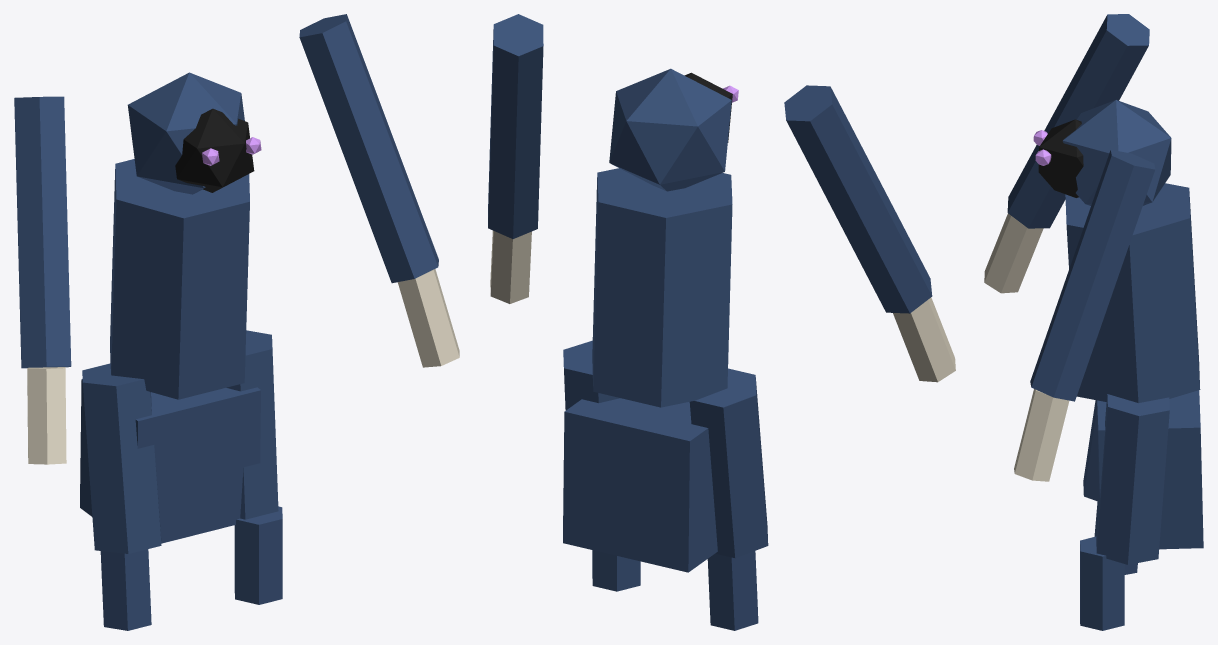
File: npcpose_wraith_idle_03.glb
3 views of the same model, side by side, from view 1: azimuth 30°, elevation 25°; view 2: azimuth 150°, elevation 25°; view 3: azimuth 270°, elevation 25° (orthographic). The views are drawn at different scales.
Parts seen in each view (by area): view 1: npcpose; view 2: npcpose; view 3: npcpose.
Boxes of the visible parts, box(x1,y1,x2,y2) form: npcpose: box(14, 14, 459, 630); npcpose: box(488, 14, 955, 630); npcpose: box(984, 14, 1203, 630).
Size of the model in its own units: 0.938 by 1.1 by 0.4287.
